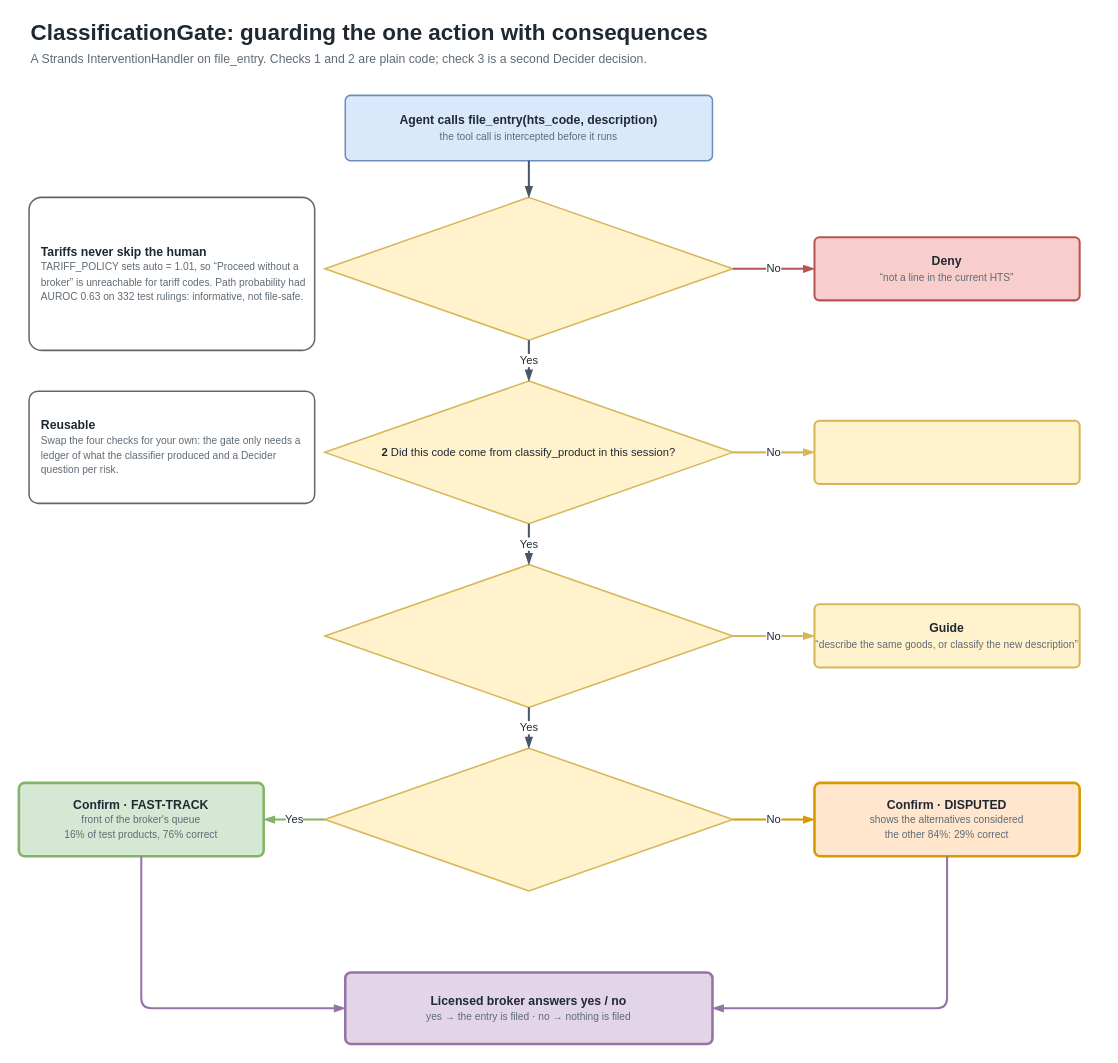
Image size: 1118x1063. Some labels were removed from this diagram. Here are the shapes that lost their labels. From the top down, the centre of each, then its label:
At (x=528, y=268): "1 Is the code a real line of the current HTS?".
At (x=946, y=451): "Guide “only file codes from classify_product; classify first”".
At (x=528, y=635): "3 Decider noul : does the entry describe the classified goods? (p ≥ 0.5)".
At (x=528, y=819): "4 Do Decider, Bedrock and the nearest past rulings agree on the code?".
